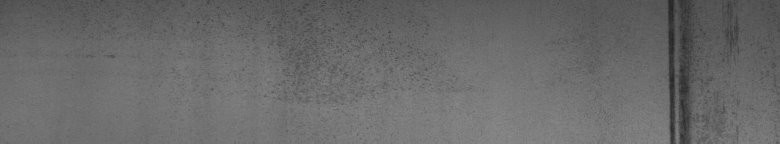hd: (661, 4, 742, 136)
